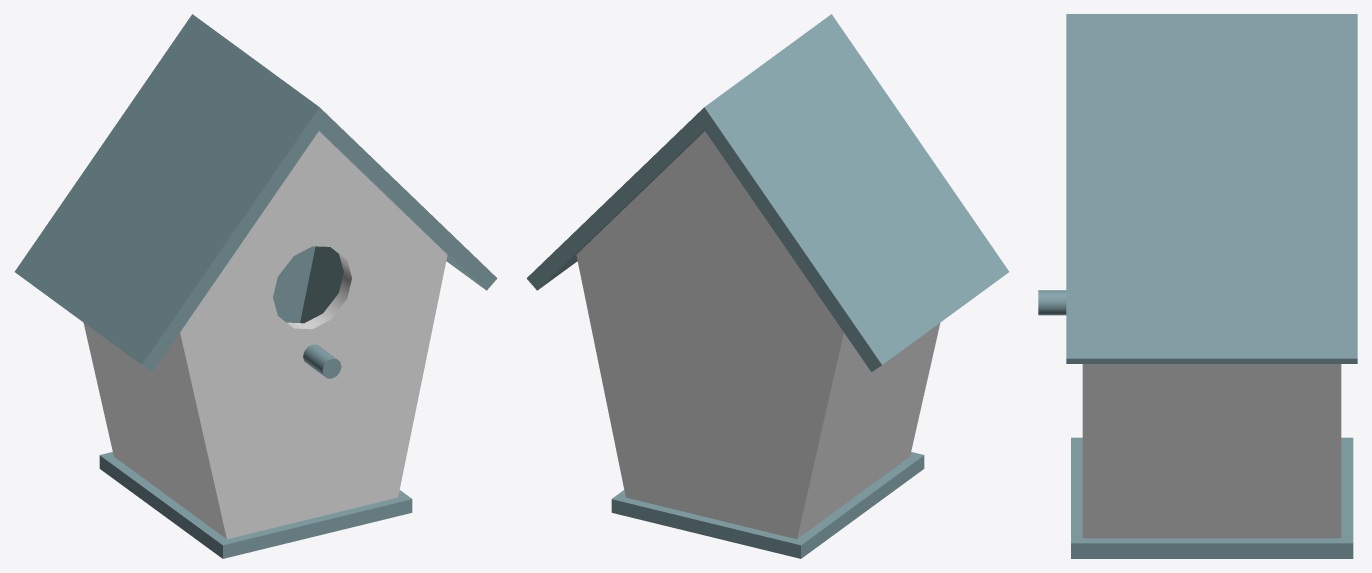
The model's file is Bird House (Cartoon).fbx.
The picture shows the model from 3 angles, left to right: view 1: azimuth 30°, elevation 25°; view 2: azimuth 150°, elevation 25°; view 3: azimuth 270°, elevation 25°; orthographic projection. The views are drawn at different scales.
Parts seen in each view (by area): view 1: Bird House (Cartoon); view 2: Bird House (Cartoon); view 3: Bird House (Cartoon).
Part boxes in pixels (x1=…): Bird House (Cartoon): x1=14, y1=14, x2=497, y2=558; Bird House (Cartoon): x1=526, y1=14, x2=1009, y2=558; Bird House (Cartoon): x1=1038, y1=14, x2=1357, y2=558.
Size of the model in its own units: 251 by 290 by 171.
